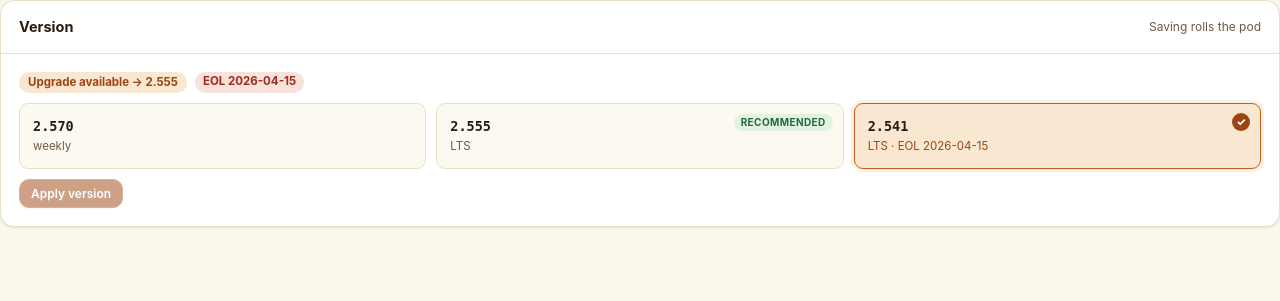
Test: VersionCard › shows the plugin-count delta when a different target is chosen
Note: Select 2.555 (50 plugins) from current 2.541 (45).
Step 1. Click the text "2.555" → point(471, 126), box [450, 118, 491, 134]
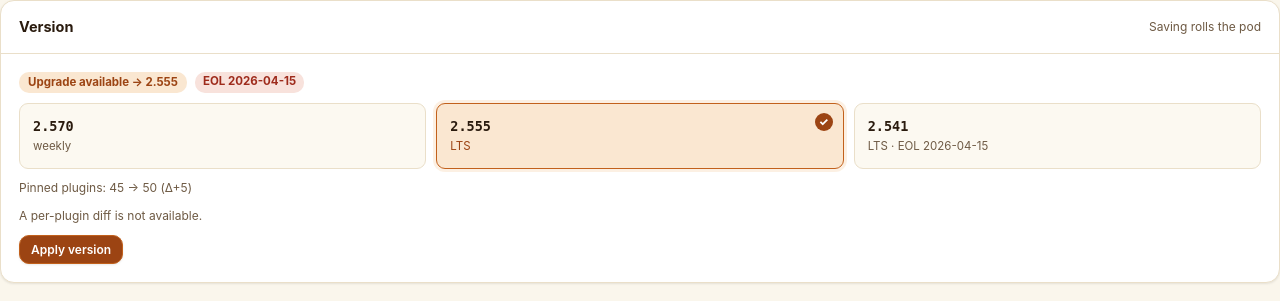
Check: the text "Pinned plugins: 45 → 50 (Δ+5)" is shown, box [19, 180, 192, 194]
